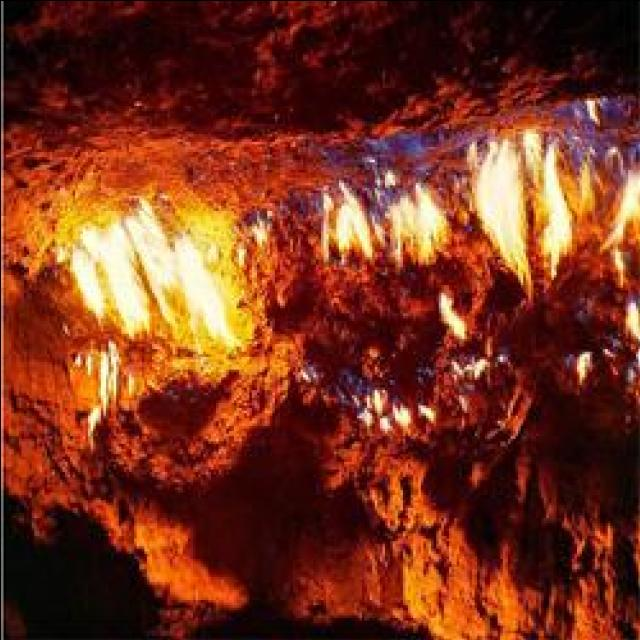fire: (61, 196, 268, 338), (468, 133, 584, 276), (306, 182, 449, 262), (77, 346, 117, 424)
smoke: (141, 556, 233, 614)
